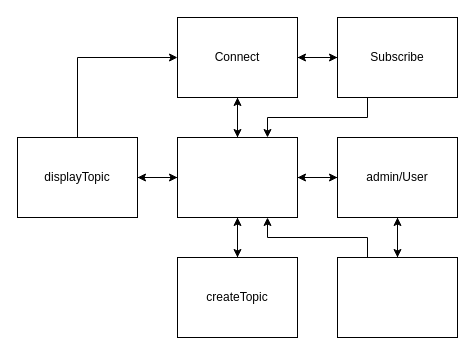
The diagram is 475 pixels wide and 355 high, and some of its shapes have lost their labels. Each missing label, with the centre of its shape:
"admin/Rubrique" belongs at point (397, 297).
"home" belongs at point (237, 177).
